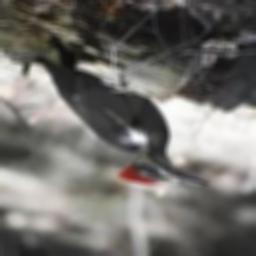Woodpecker: (34, 39, 208, 189)
